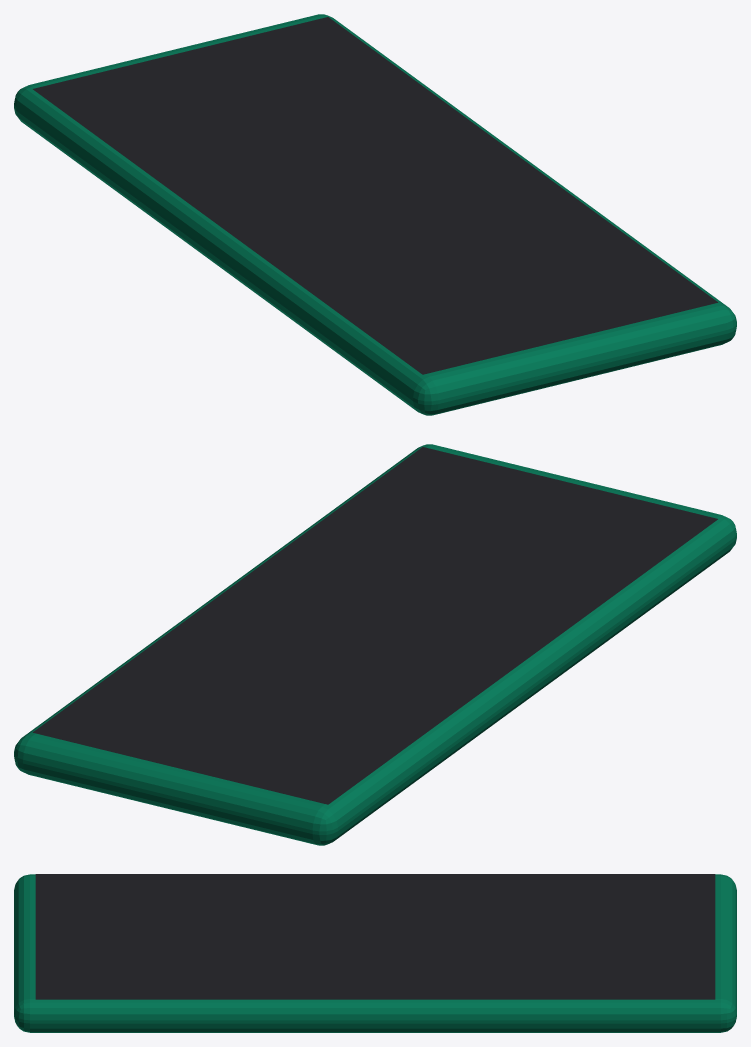
Rendered from iqoo-z-model-210-flagship-2024.glb.
3 renders of one model, top to bottom at view 1: azimuth 30°, elevation 25°; view 2: azimuth 150°, elevation 25°; view 3: azimuth 270°, elevation 25°, orthographic. The views are drawn at different scales.
Parts seen in each view (by area): view 1: Phone_Screen, Phone_Body; view 2: Phone_Screen, Phone_Body; view 3: Phone_Screen, Phone_Body.
Boxes of the visible parts, x1,y1,x2,y2 form: Phone_Screen: (33, 17, 717, 374); Phone_Body: (14, 14, 736, 415); Phone_Screen: (33, 447, 717, 804); Phone_Body: (14, 444, 736, 845); Phone_Screen: (35, 874, 715, 999); Phone_Body: (14, 874, 736, 1032).
Bounding box in the file's own units: 0.073 × 0.0082 × 0.1633.
